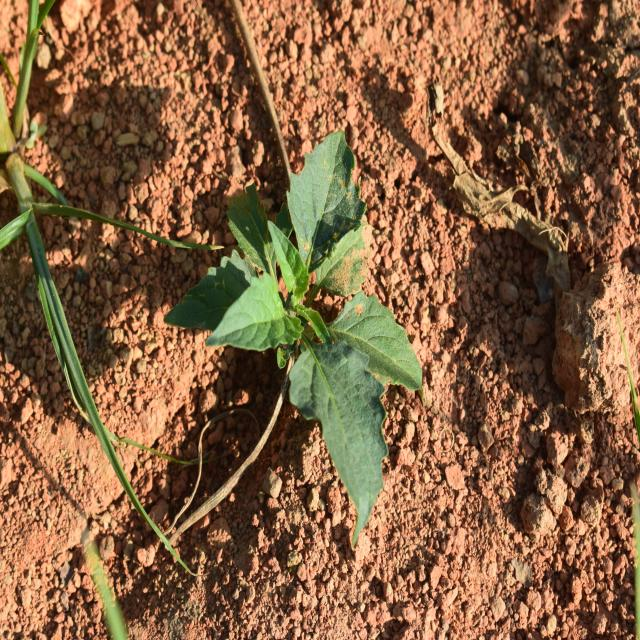Black_nightshade: (196, 155, 412, 510)
